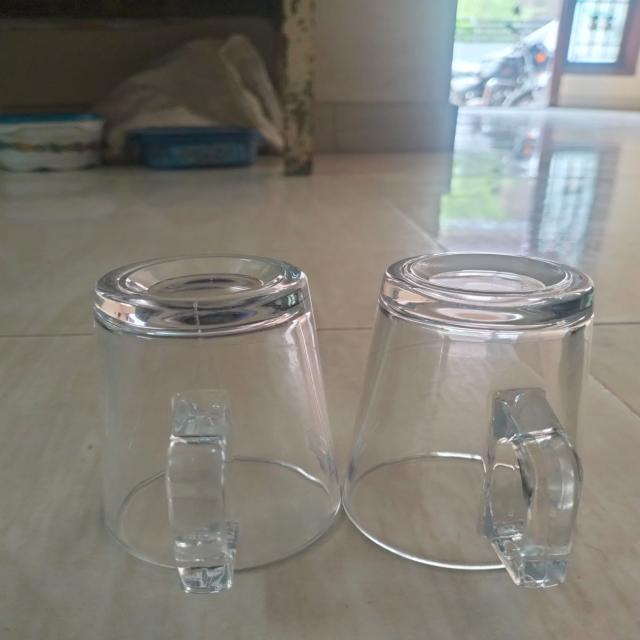glass-VX4N: (341, 254, 594, 592), (92, 255, 342, 593)
